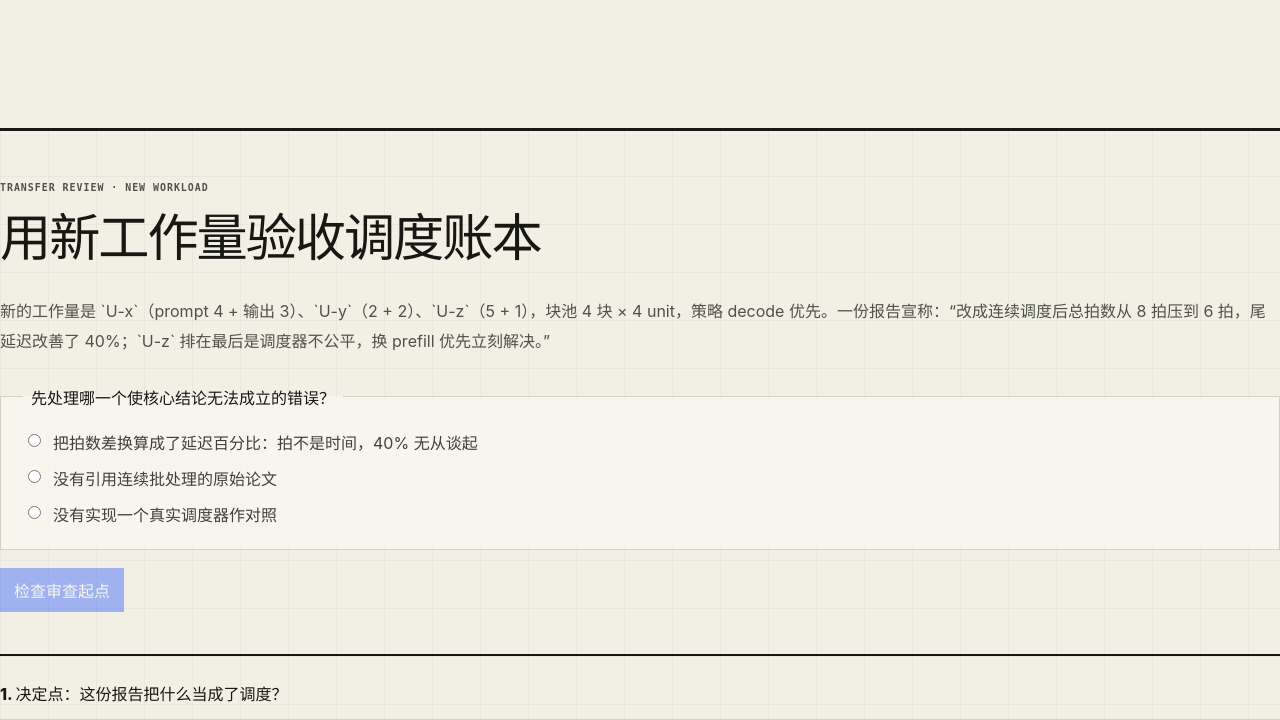
scheduling transfer assessment component › checks the fatal dimension error before the free-text dimensions
The width and height of the screenshot is (1280, 720).
Check: the button "检查审查起点" is disabled, box 0,568 -> 124,612
Step 1. Click the radio button labelled "把拍数差换算成了延迟百分比：拍不是时间，40% 无从谈起" → (34, 440), box 28,434 -> 41,446
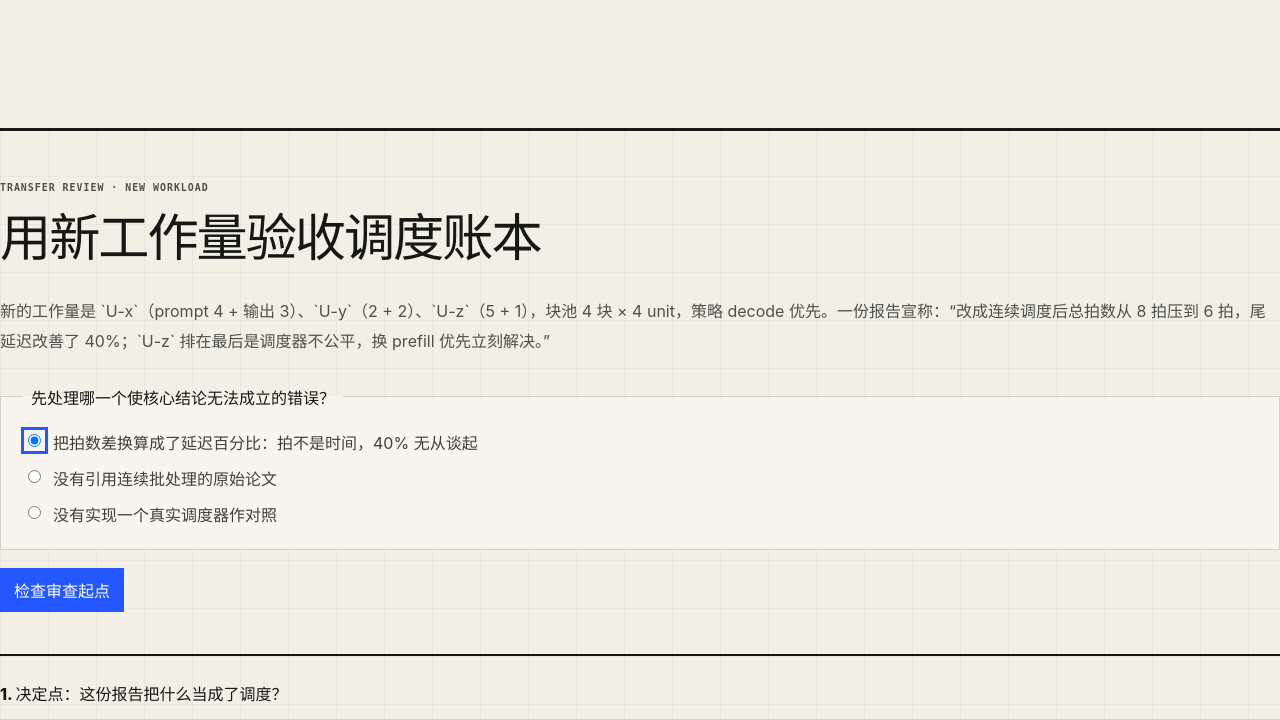
Step 2. Click the button "检查审查起点" → (62, 590), box 0,568 -> 124,612
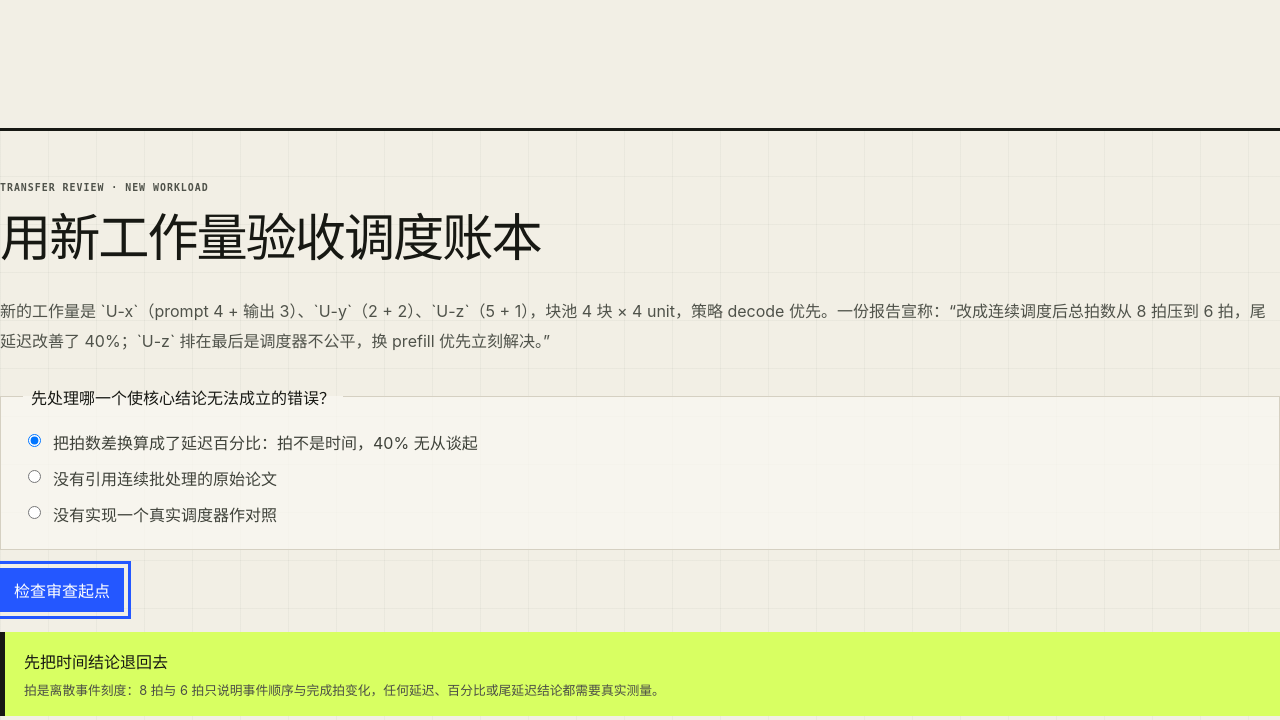
Check: the text "先把时间结论退回去" is shown, box 24,652 -> 168,672
Check: the text "拍是离散事件刻度：8 拍与 6 拍只说明事件顺序与完成拍变化，任何延迟、百分比或尾延迟结论都需要真实测量。" is shown, box 24,682 -> 665,698
